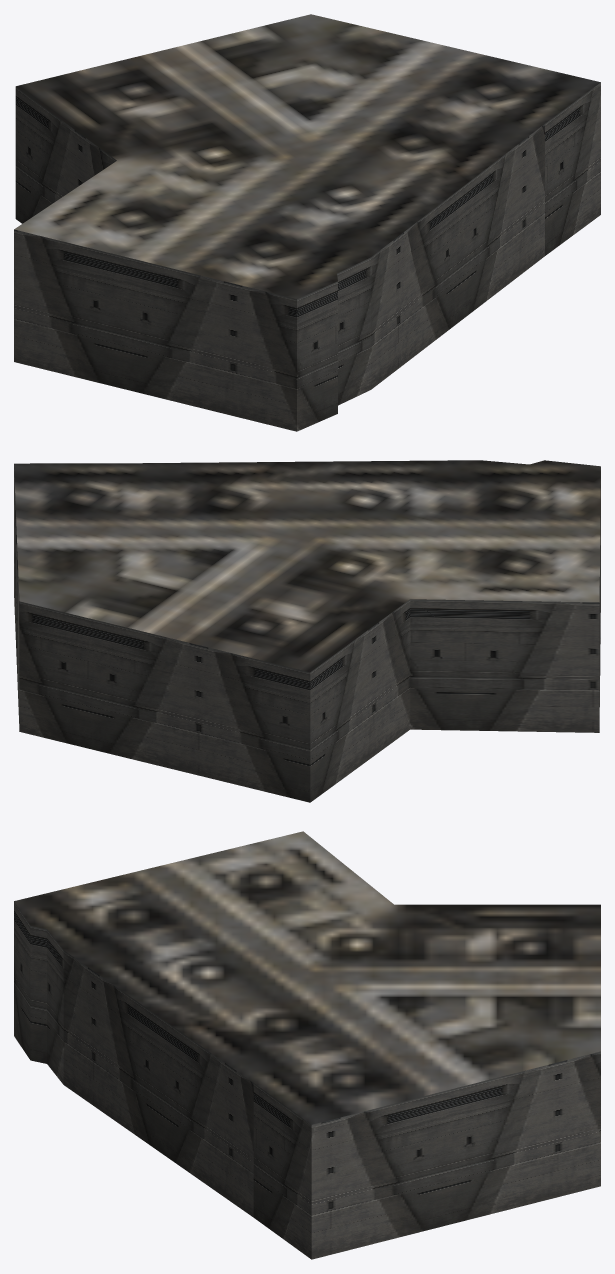
File: fortress_hard_19.glb
3 views of the same model, one above another, from view 1: azimuth 30°, elevation 25°; view 2: azimuth 150°, elevation 25°; view 3: azimuth 270°, elevation 25° (orthographic). The views are drawn at different scales.
Parts seen in each view (by area): view 1: buildings/saxarba/fortress_hard/fortress_hard_19; view 2: buildings/saxarba/fortress_hard/fortress_hard_19; view 3: buildings/saxarba/fortress_hard/fortress_hard_19.
Part boxes in pixels (x1,y1,x2,y2): buildings/saxarba/fortress_hard/fortress_hard_19: [14, 14, 600, 431]; buildings/saxarba/fortress_hard/fortress_hard_19: [14, 460, 600, 802]; buildings/saxarba/fortress_hard/fortress_hard_19: [14, 831, 600, 1259].
Size of the model in its own units: 84 by 18 by 71.
